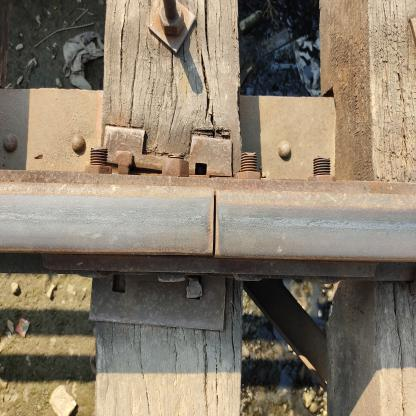Non Defective 2: (192, 175, 248, 278)
